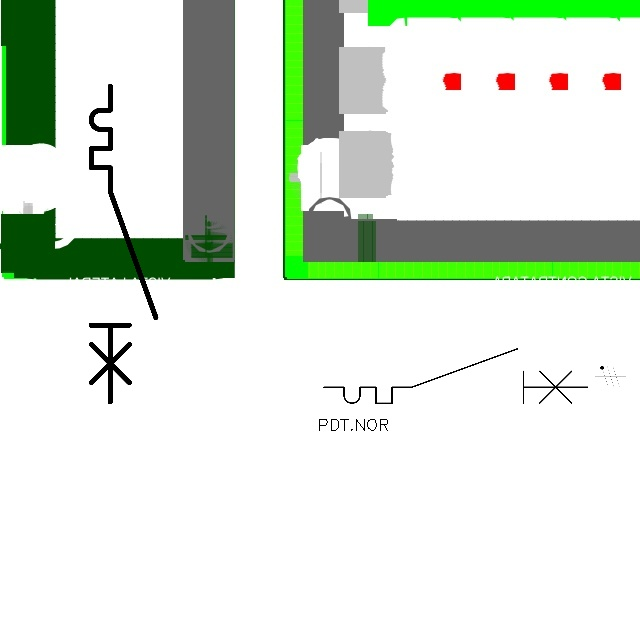interruptor_termomagnetico: (83, 78, 164, 410), (317, 342, 595, 410)
